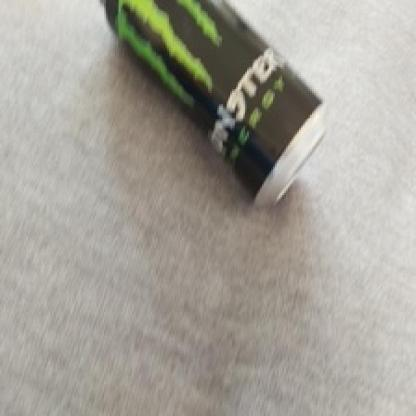Can: (104, 0, 330, 208)
